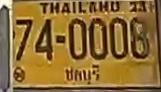0: (88, 17, 107, 59), (68, 18, 86, 60), (109, 17, 127, 59)
4: (34, 18, 52, 60)
7: (15, 18, 32, 60)
8: (129, 16, 149, 58)
CBI: (61, 63, 103, 86)
